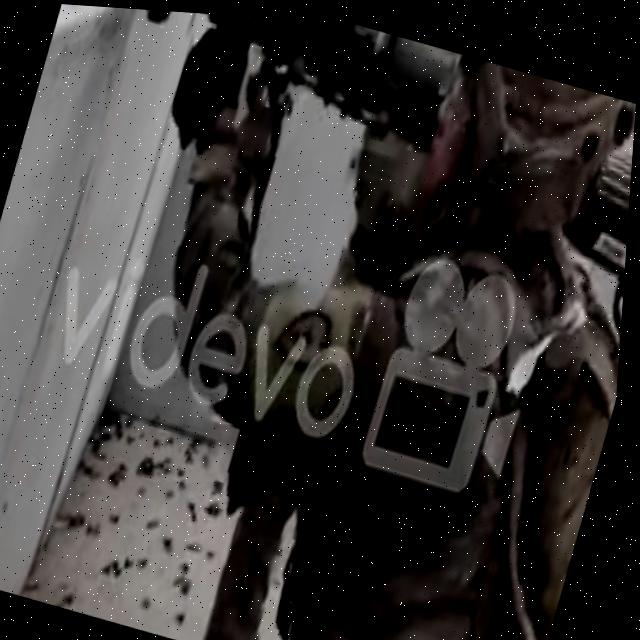rocket: (127, 7, 453, 124)
